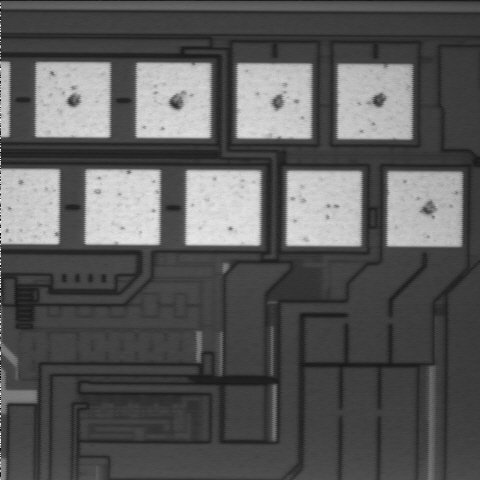pad: (86, 170, 160, 245), (186, 170, 260, 245), (287, 171, 361, 246), (237, 64, 311, 138), (137, 63, 210, 138), (36, 63, 109, 137), (338, 65, 411, 139), (388, 172, 461, 246)
